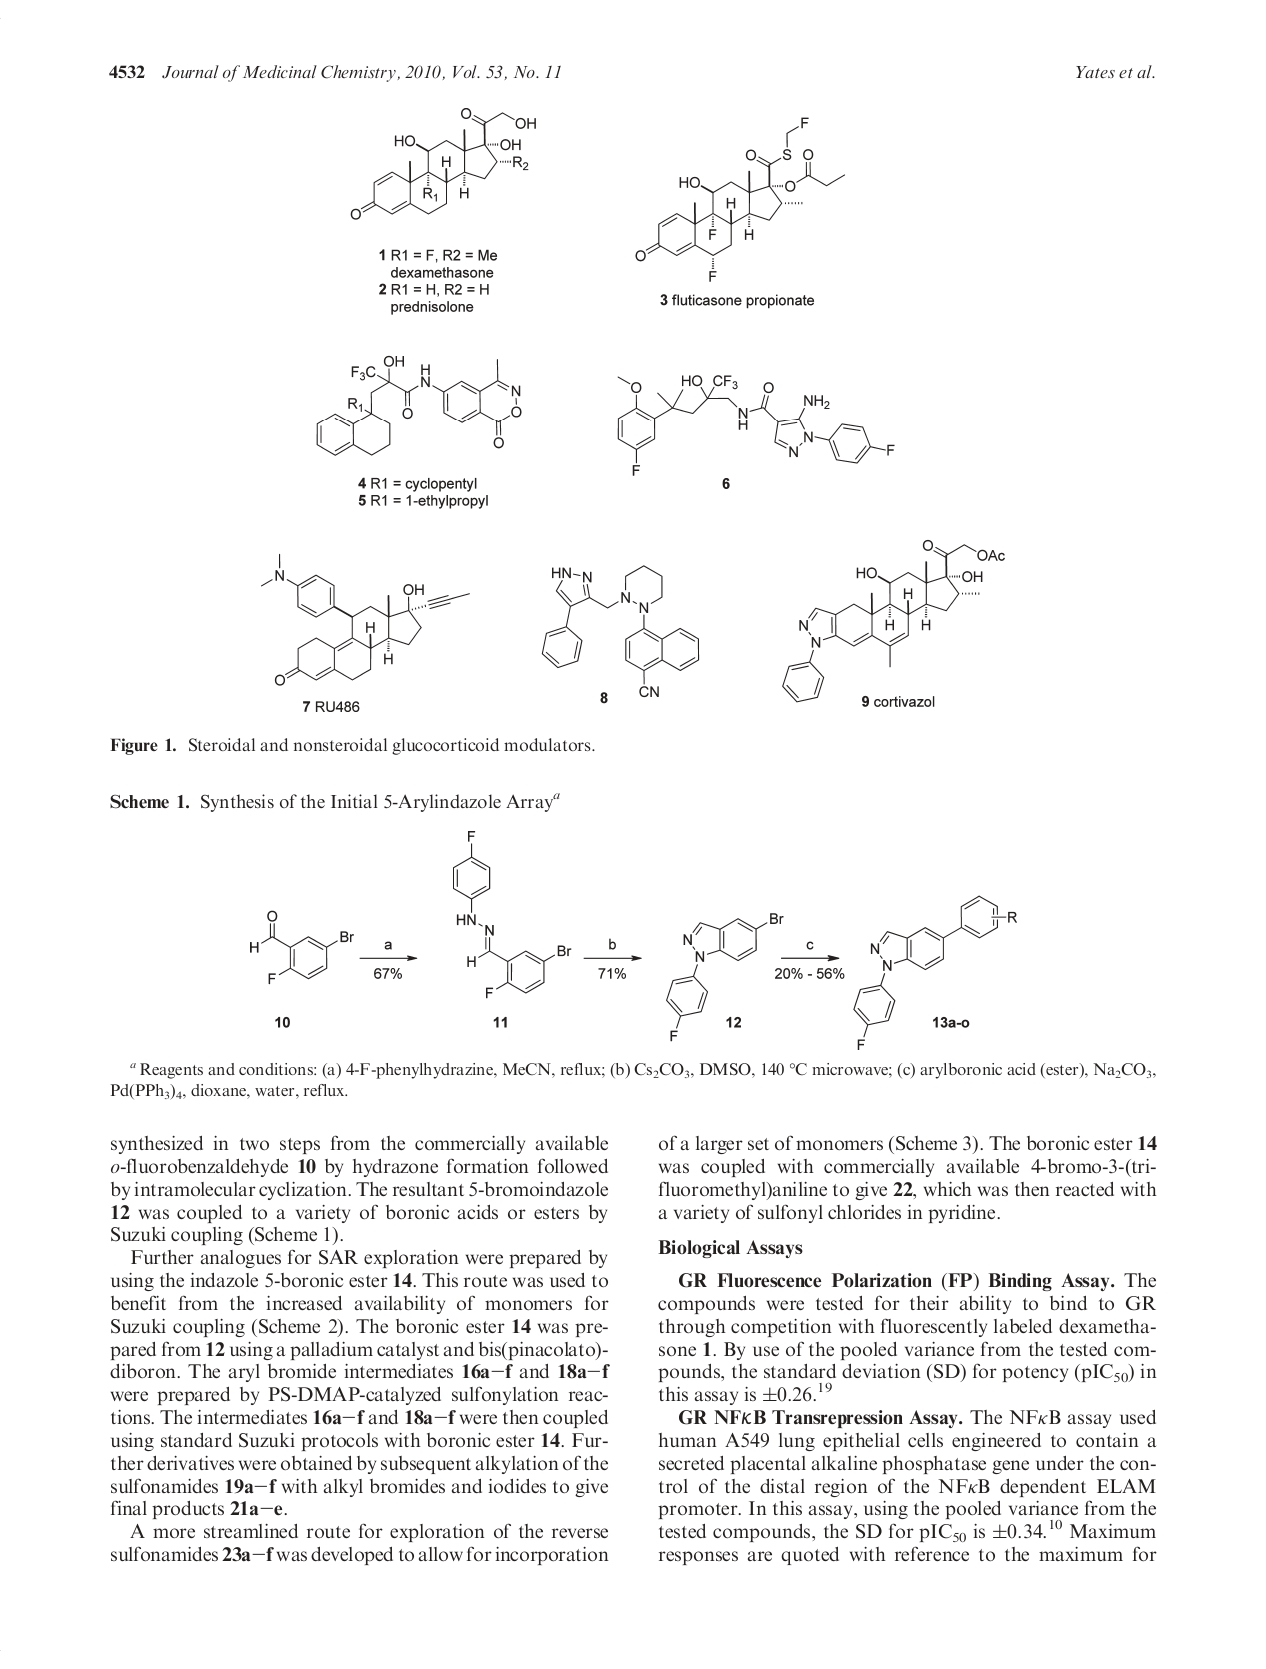exist_molecular: (782, 537, 1008, 702), (636, 113, 848, 286), (614, 367, 898, 480), (261, 549, 473, 686), (852, 894, 1020, 1051), (311, 352, 524, 457), (540, 563, 702, 698), (348, 106, 540, 221), (452, 829, 573, 1001), (664, 904, 786, 1043), (246, 906, 356, 985)
